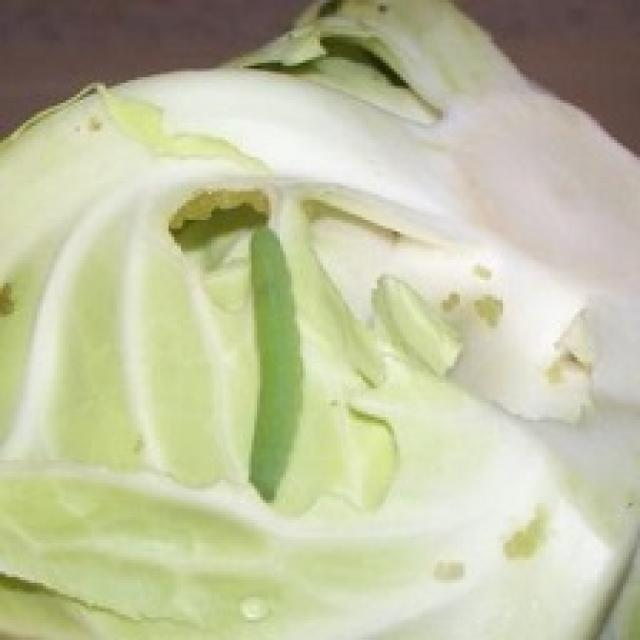Cabbage-worm: (250, 217, 316, 510), (157, 177, 283, 236)
